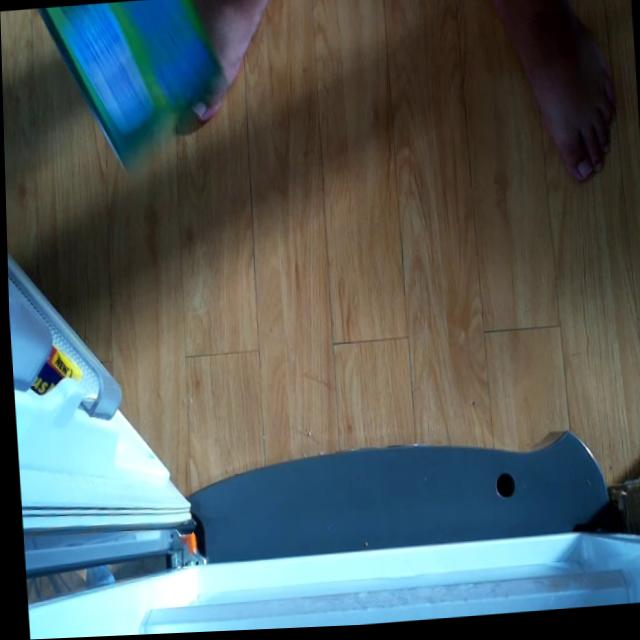milk: (32, 0, 250, 175)
